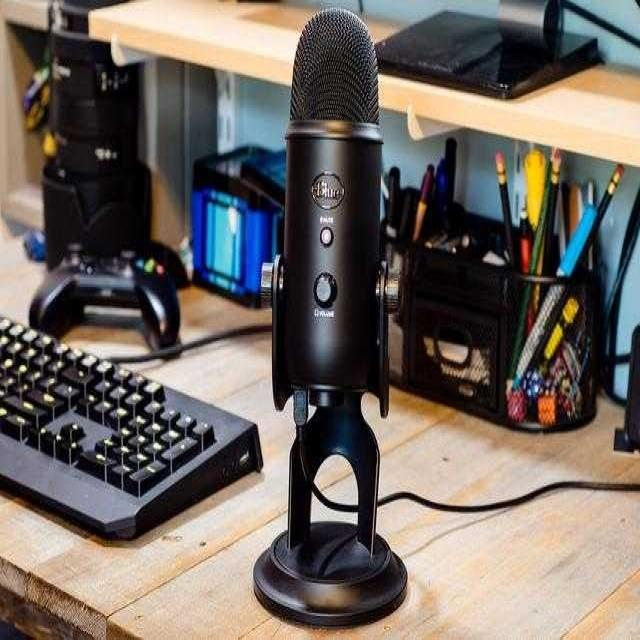microphone: (278, 8, 384, 409)
